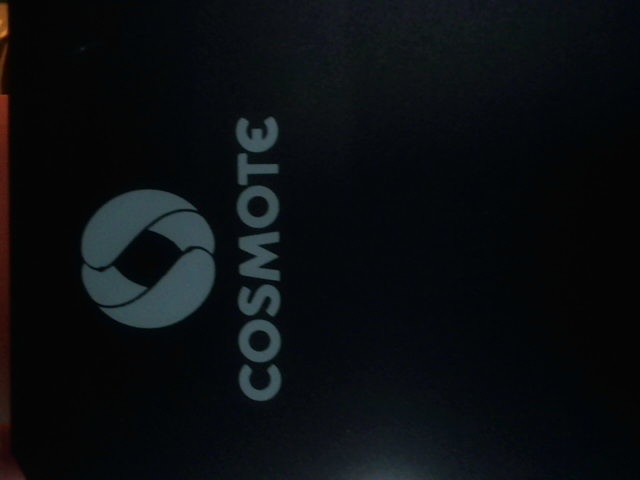AU_COSMOTE: (84, 112, 296, 404)
